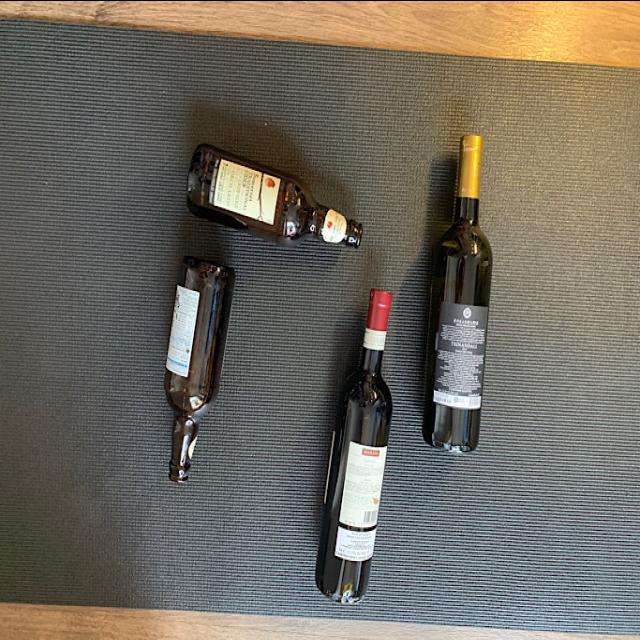litter: (313, 280, 400, 608), (419, 126, 495, 455), (152, 258, 242, 494), (181, 146, 362, 262)
